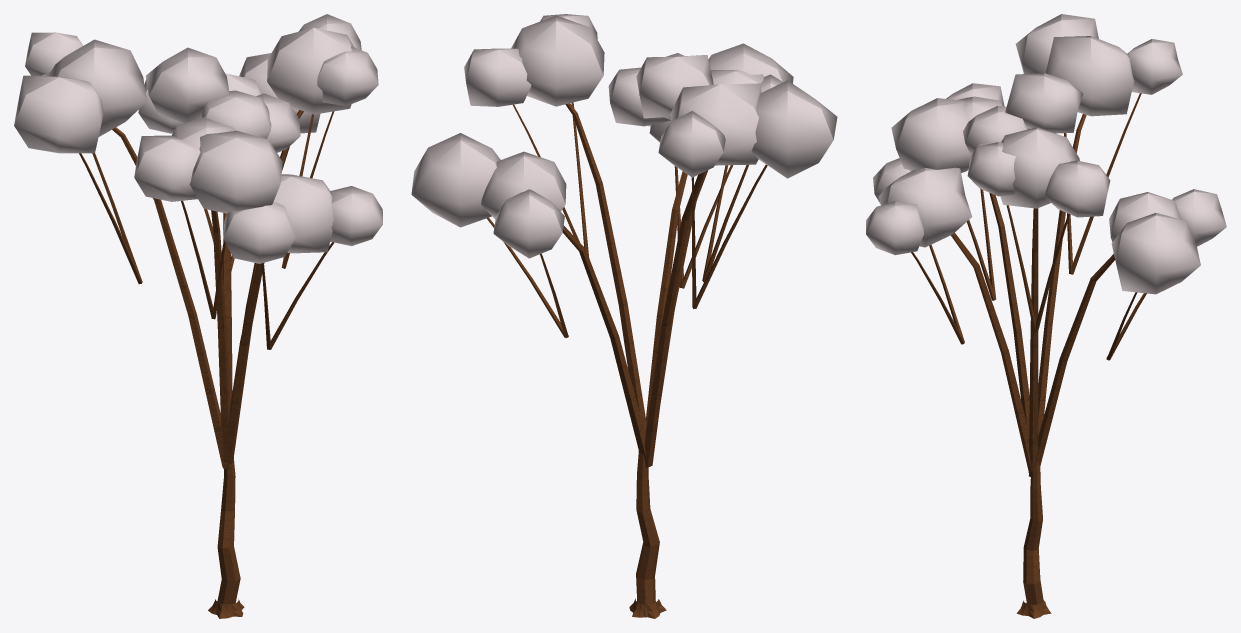
File: cherry-blossom-large.glb
The picture shows the model from 3 angles, left to right: view 1: azimuth 30°, elevation 25°; view 2: azimuth 150°, elevation 25°; view 3: azimuth 270°, elevation 25°; orthographic projection. The views are drawn at different scales.
Parts seen in each view (by area): view 1: cherry-blossom; view 2: cherry-blossom; view 3: cherry-blossom.
Part boxes in pixels (bbox=[...]): cherry-blossom: bbox=[14, 14, 382, 618]; cherry-blossom: bbox=[411, 14, 837, 618]; cherry-blossom: bbox=[866, 14, 1226, 618].
Size of the model in its own units: 9.5 by 14.19 by 8.81.
2 materials, 1 textured.
